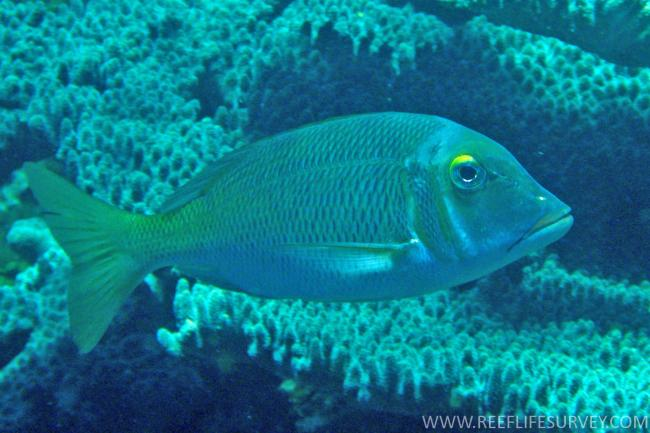fish: (24, 110, 575, 357)
